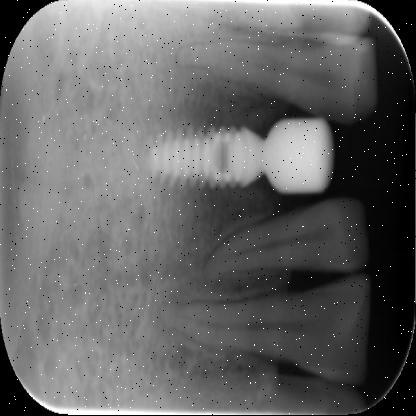Bicon: (147, 132, 259, 192)
